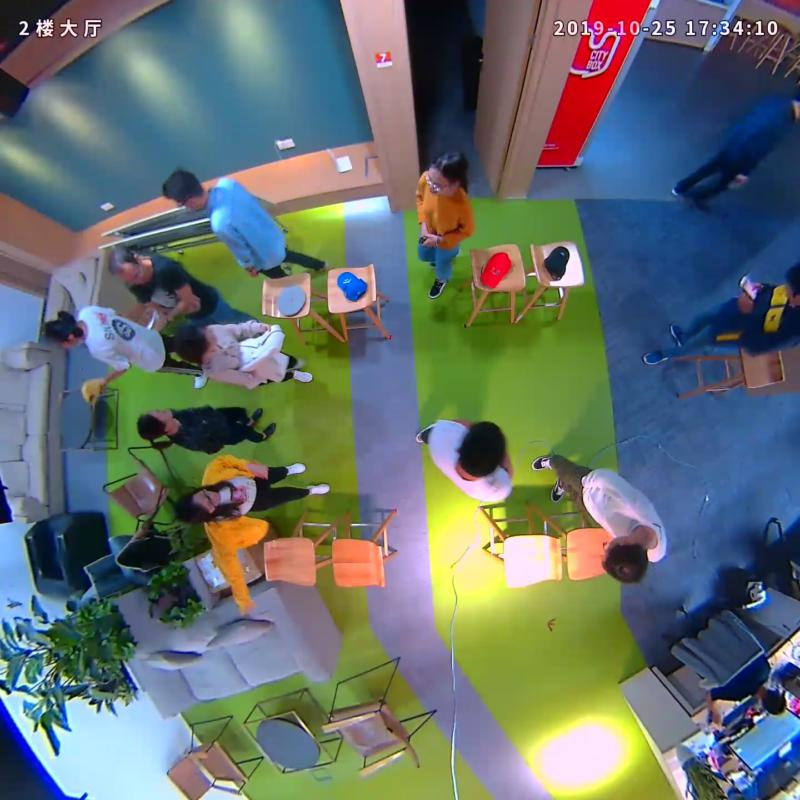head: (459, 421, 505, 479), (602, 535, 648, 585), (423, 150, 466, 196), (160, 167, 203, 212), (174, 485, 219, 525), (174, 322, 217, 362), (107, 246, 149, 285), (44, 315, 82, 348), (137, 408, 173, 440)
